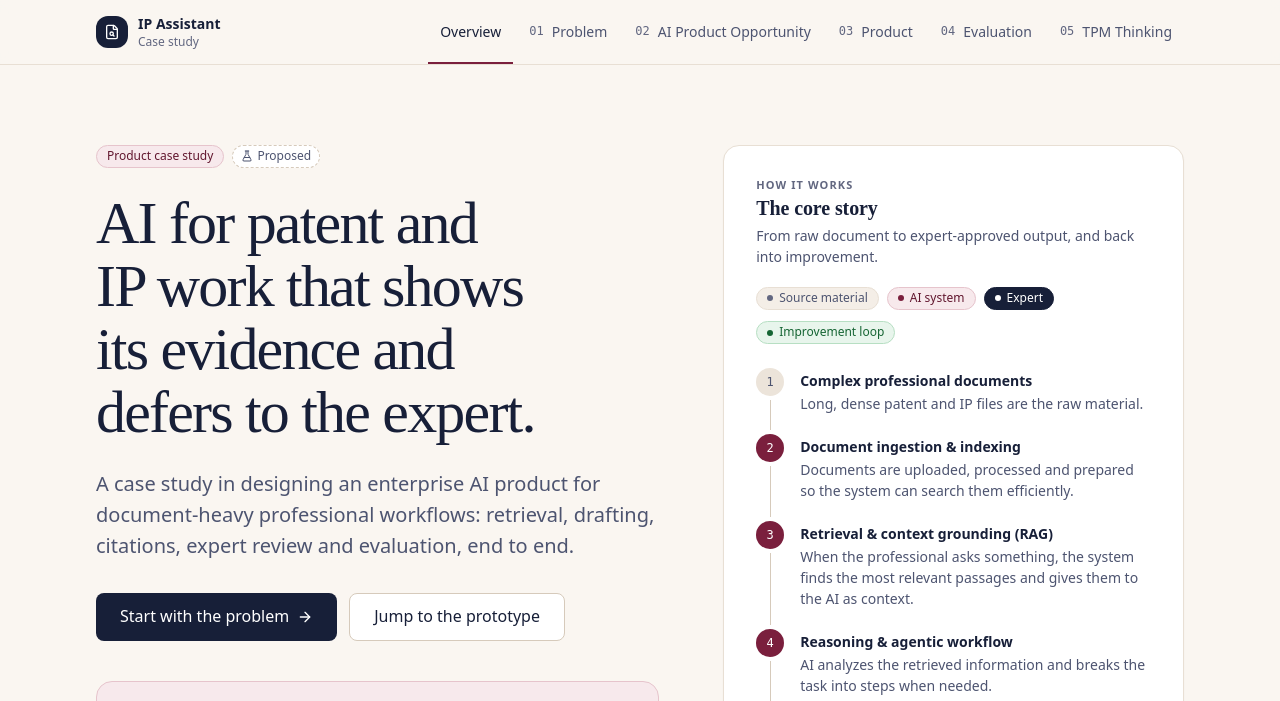
Test: routing › has an Overview link back to Home, current only on "/" and not on other pages
The image size is (1280, 701).
Check: the 1st heading is shown, box 96,190 -> 535,445
Click the link "01 Problem". click: (568, 31)
box: 529,22 -> 607,40
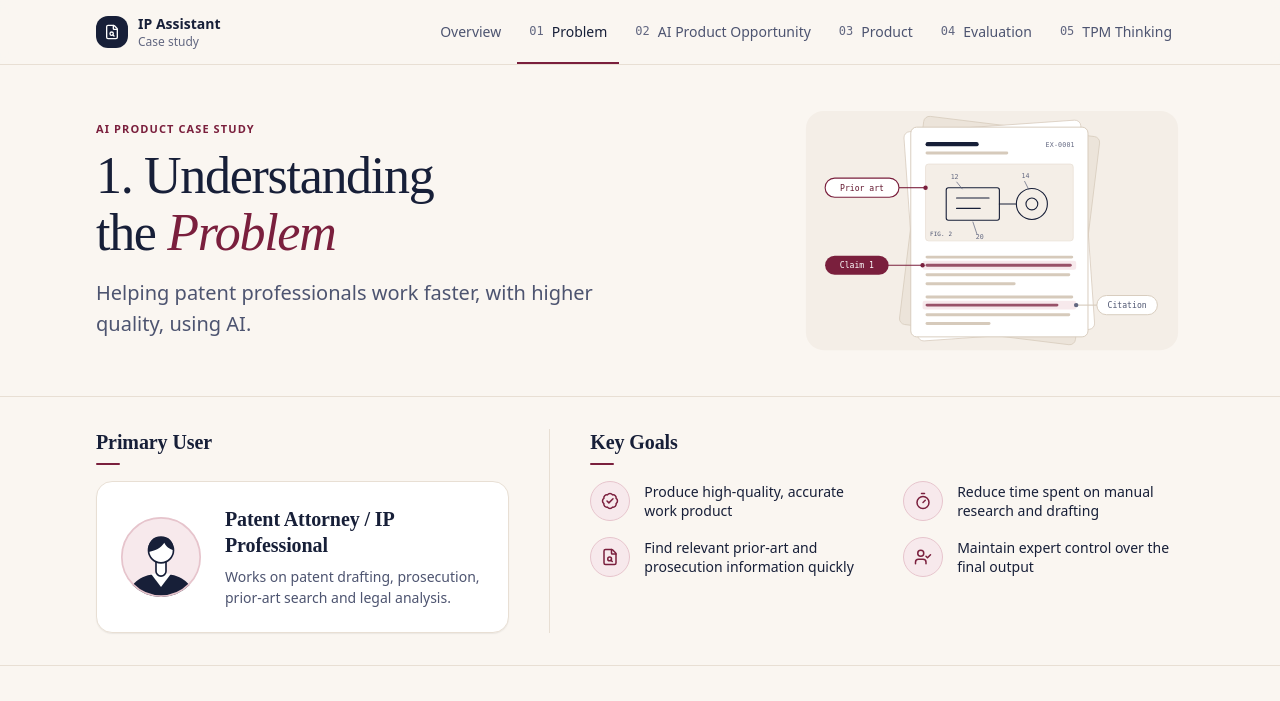
Check: the heading "1. Understanding the Problem" is shown, box 96,147 -> 433,261
